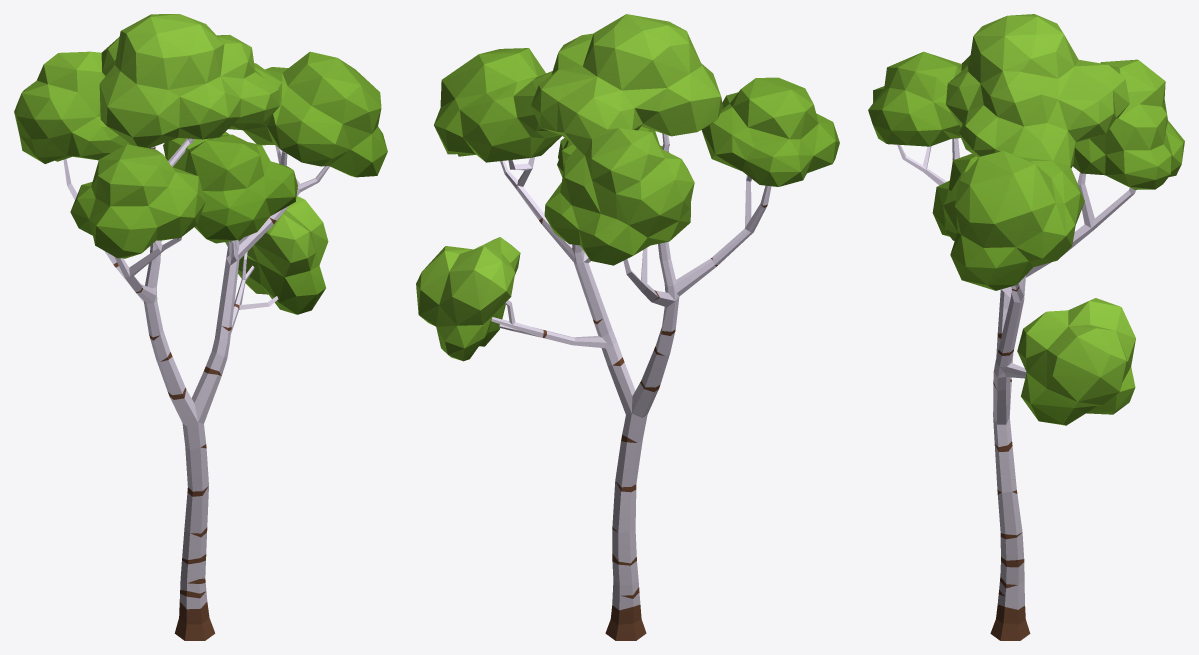
File: Tree_Birch_Green_03.fbx
The picture shows the model from 3 angles, left to right: view 1: azimuth 30°, elevation 25°; view 2: azimuth 150°, elevation 25°; view 3: azimuth 270°, elevation 25°; orthographic projection. The views are drawn at different scales.
Parts seen in each view (by area): view 1: Tree_Birch_Green_03; view 2: Tree_Birch_Green_03; view 3: Tree_Birch_Green_03.
Part boxes in pixels (bbox=[...]): Tree_Birch_Green_03: bbox=[14, 14, 387, 640]; Tree_Birch_Green_03: bbox=[416, 14, 839, 640]; Tree_Birch_Green_03: bbox=[868, 14, 1184, 640].
Bounding box in the file's own units: 535 × 940 × 448.
